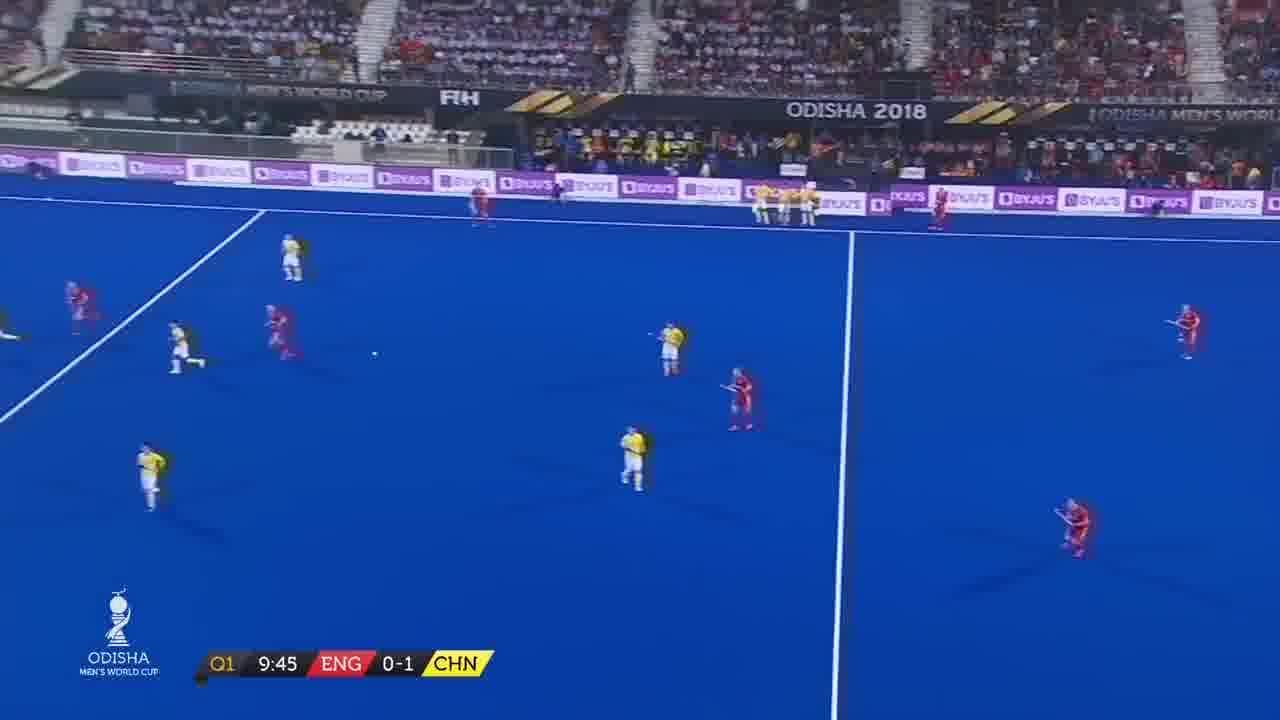ball: (371, 349, 379, 360)
